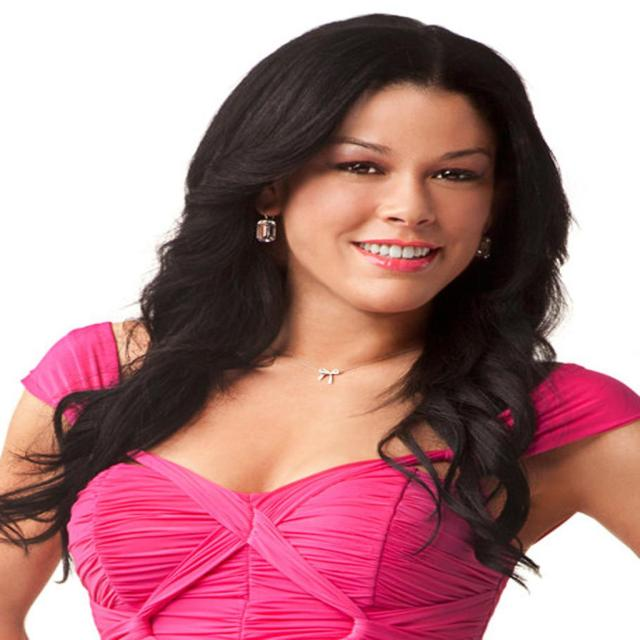Face: (289, 86, 505, 314)
